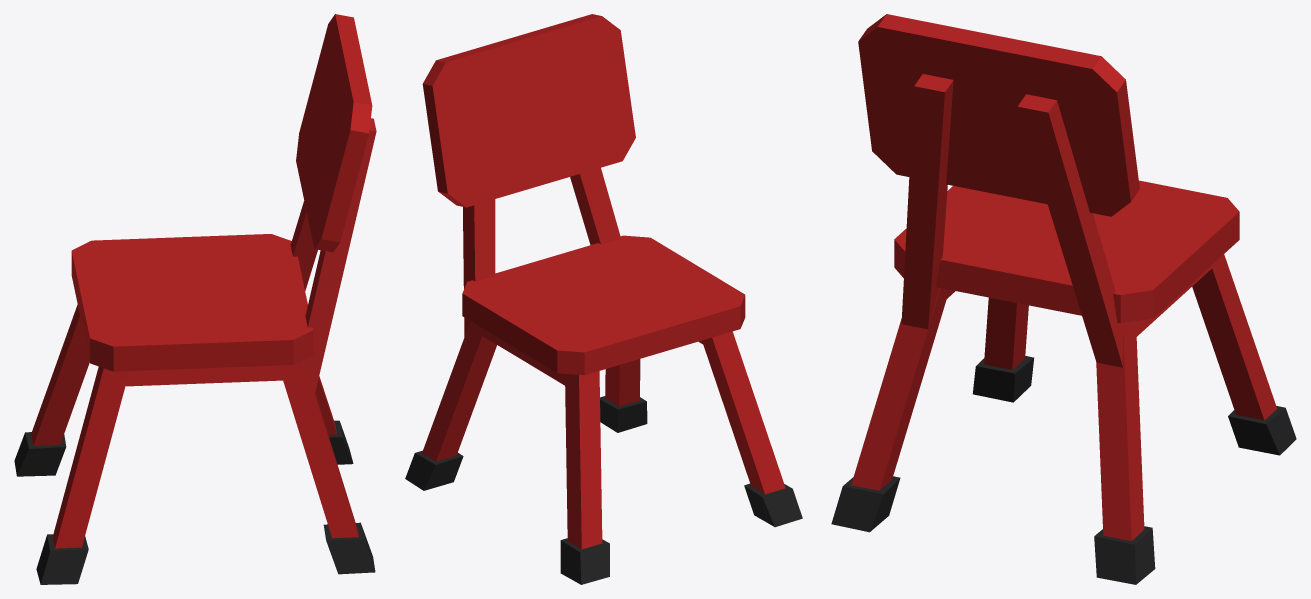
Rendered from ghe4.fbx.
3 renders of one model, left to right at view 1: azimuth 30°, elevation 25°; view 2: azimuth 150°, elevation 25°; view 3: azimuth 270°, elevation 25°, orthographic. The views are drawn at different scales.
Parts seen in each view (by area): view 1: ghe4; view 2: ghe4; view 3: ghe4.
Part boxes in pixels (x1,y1,x2,y2): ghe4: [14, 14, 376, 584]; ghe4: [405, 14, 802, 584]; ghe4: [831, 14, 1296, 584].
Size of the model in its own units: 137 by 159 by 130.
